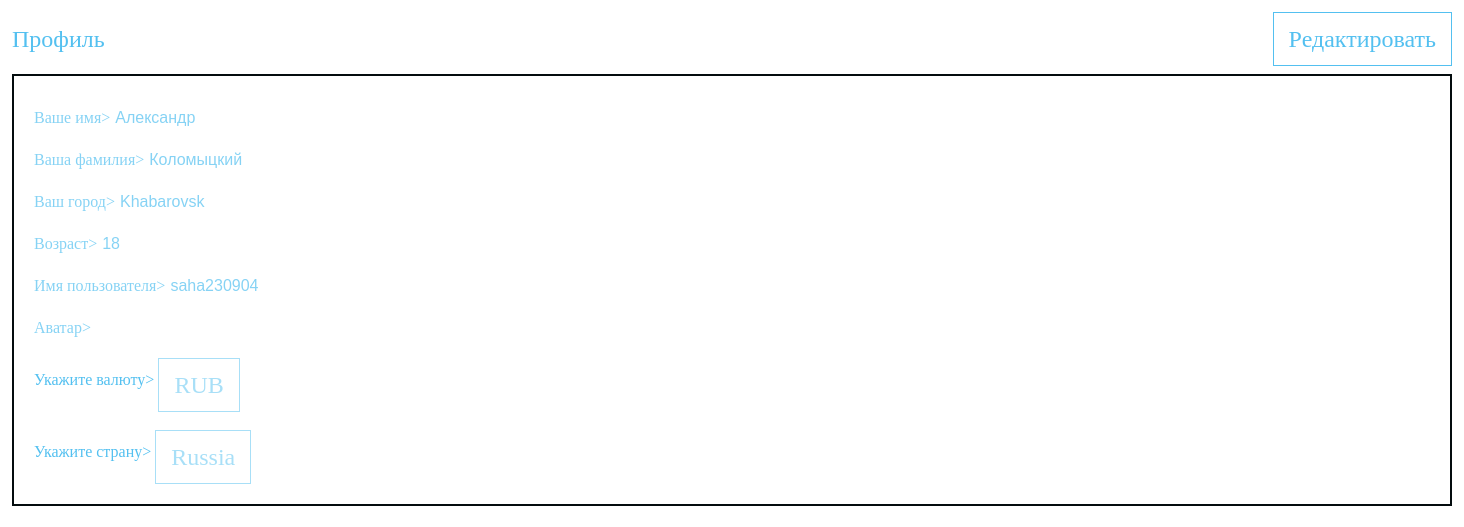
Test: features/EditableProfileCard › Cancel in the document
The width and height of the screenshot is (1464, 527).
Click the button with test id "EditableProfileCardHeader.Edit".
click(1362, 39)  # box [1273,12,1452,66]
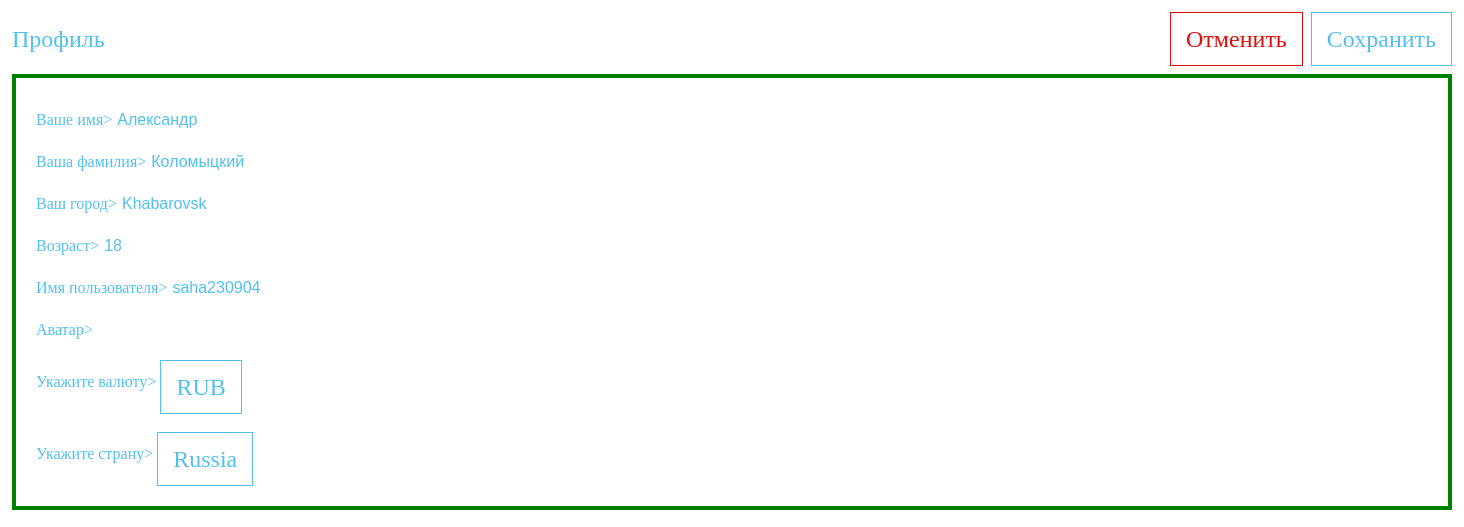
Expected: the button with test id "EditableProfileCardHeader.Cancel" is shown, [1170,12,1303,66]
